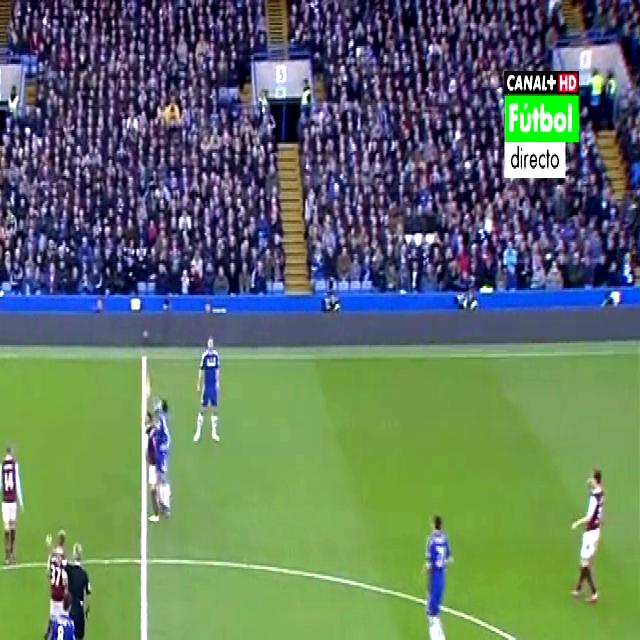referee: (64, 538, 91, 640)
soccer-player: (569, 464, 610, 622), (136, 378, 176, 534), (416, 498, 456, 640), (191, 332, 227, 458), (0, 434, 26, 569), (43, 528, 65, 640), (46, 592, 79, 640)
